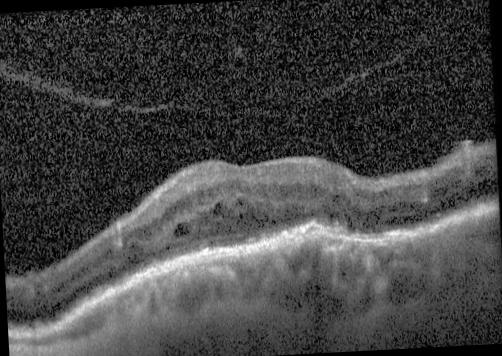intraretinal_cyst: (173, 223, 189, 237), (212, 201, 221, 216), (330, 193, 340, 202), (237, 199, 244, 205)
subretinal_fluid: (8, 270, 114, 324), (384, 178, 499, 225)
vitreous_detachment: (0, 35, 428, 117)
